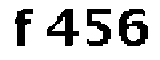4: (47, 6, 81, 49)
5: (83, 4, 114, 50)
6: (115, 4, 150, 50)
f: (10, 4, 35, 49)
